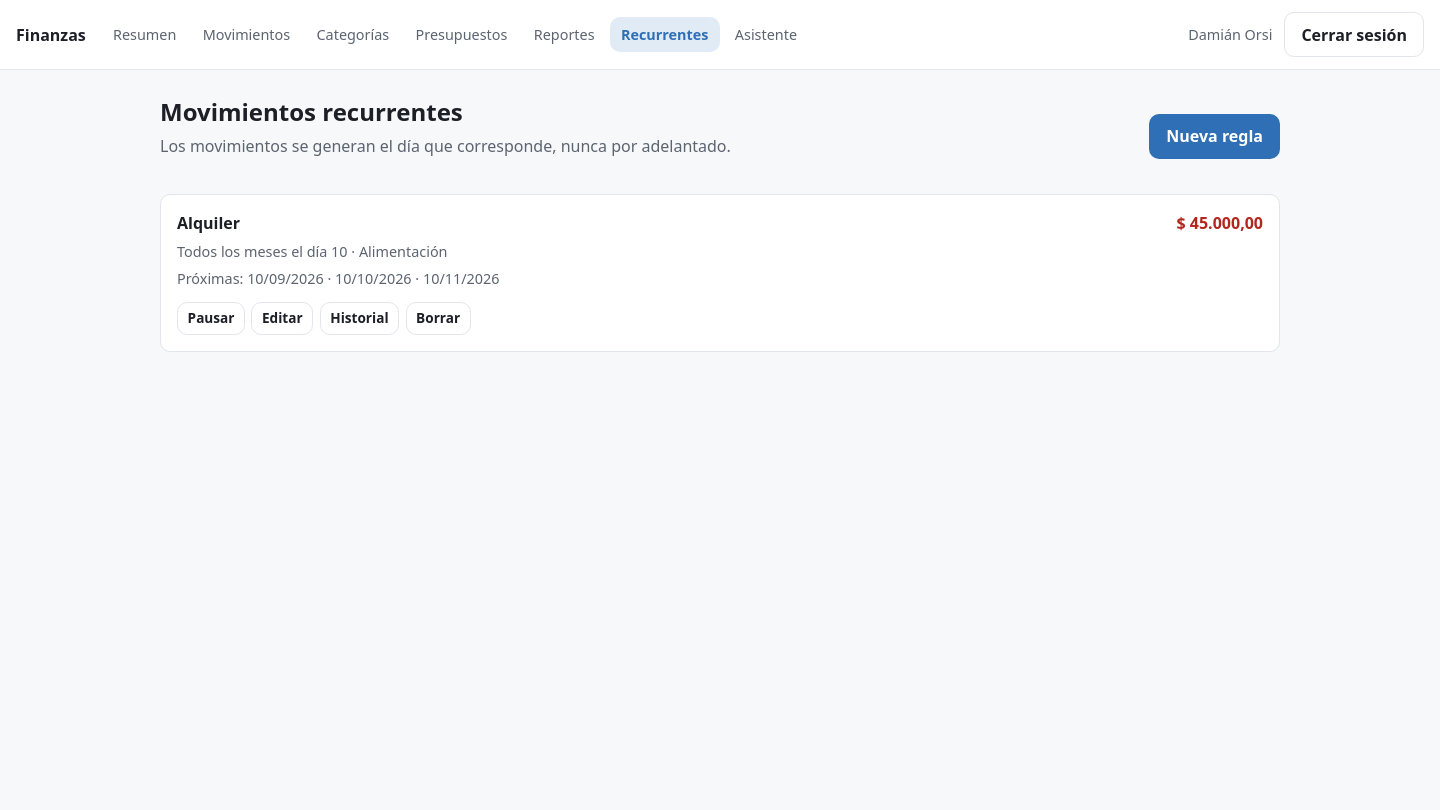
it: RecurringPage: alta › explica el ajuste del día 31 antes de guardar
The image size is (1440, 810).
What coordinates should you click on to do the following:
click the button "Nueva regla"
I would click on:
 (1215, 136)
Its box is [1149,114,1280,159].
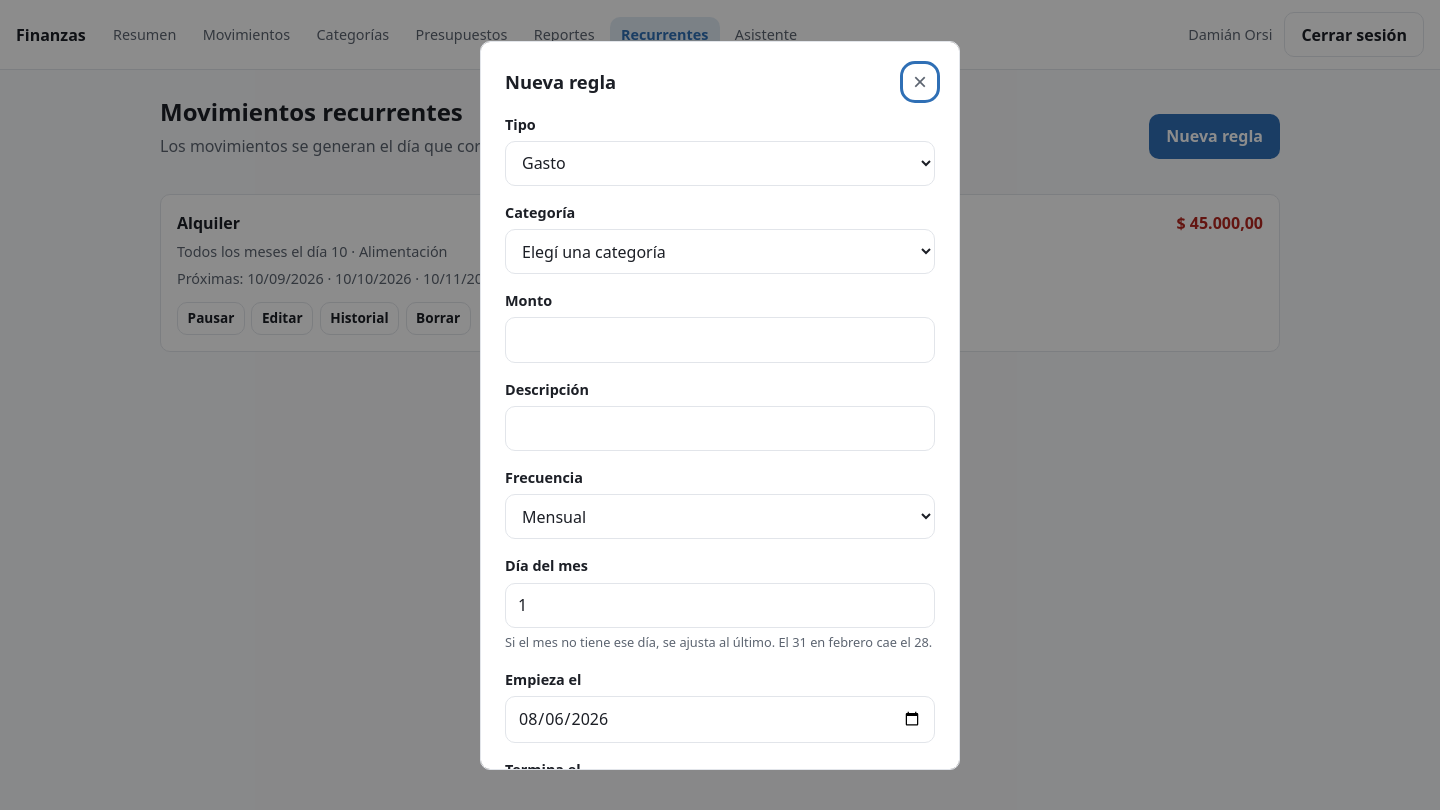
Check: the text "El 31 en febrero cae el 28" is shown, box [505,633,932,651]
